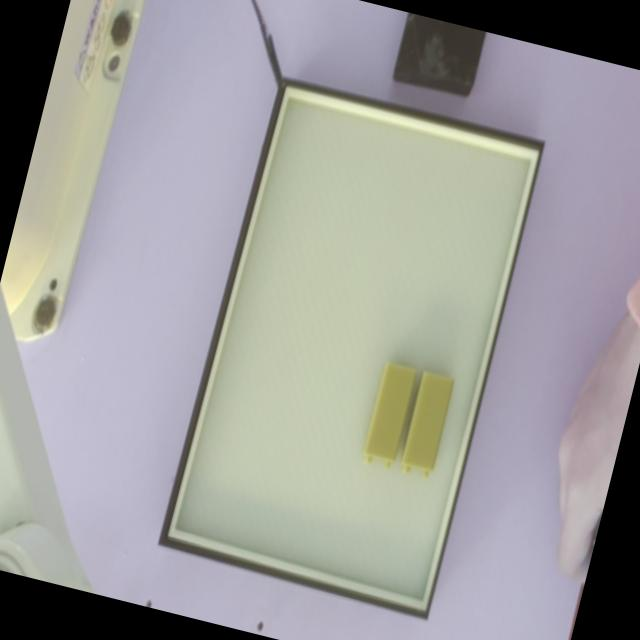bateria: (364, 361, 418, 466), (399, 371, 453, 475)
mesa: (157, 77, 545, 619)
